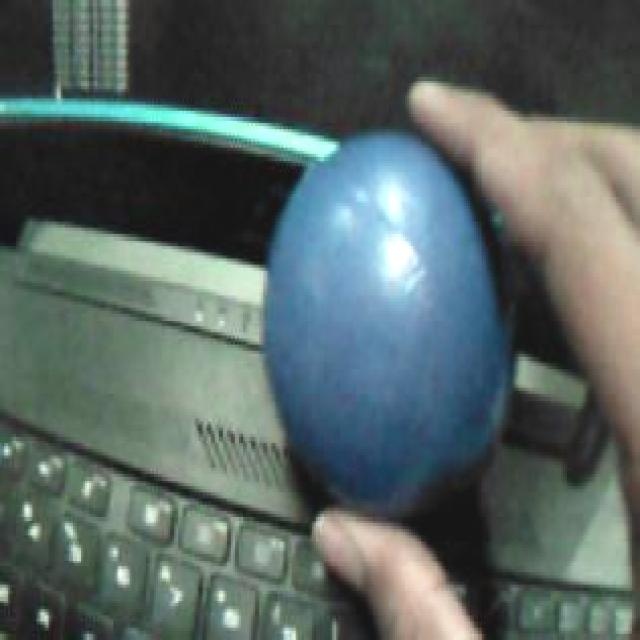BallPurple: (258, 128, 516, 522)
